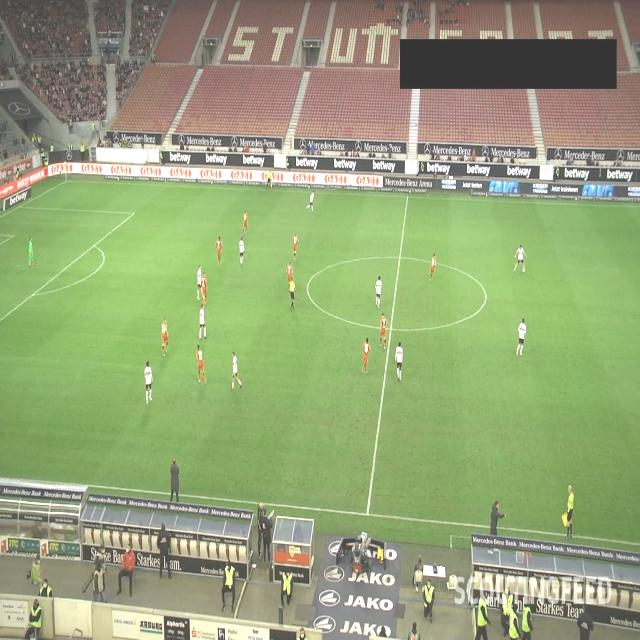ball: (522, 266, 526, 274)
f_player: (194, 346, 207, 386), (230, 351, 242, 392), (144, 362, 155, 406), (394, 342, 405, 384), (515, 320, 527, 356), (362, 338, 374, 374), (513, 244, 527, 274), (161, 320, 171, 358), (198, 304, 208, 340), (379, 315, 389, 349), (26, 237, 36, 267), (375, 278, 383, 308), (285, 262, 293, 292), (238, 236, 246, 266), (217, 236, 224, 266), (197, 266, 203, 301), (430, 254, 438, 280), (293, 232, 301, 258), (242, 212, 250, 236), (202, 274, 208, 303), (309, 190, 315, 212)
umpire: (564, 486, 576, 540), (290, 278, 298, 312), (266, 168, 272, 190)
